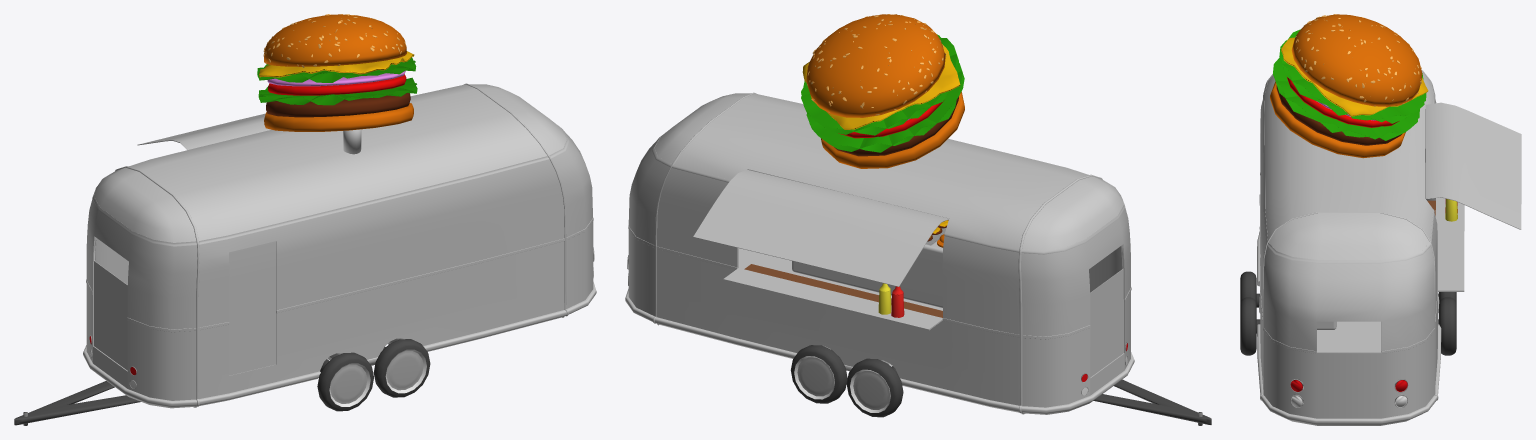
The model's file is TruckChrome.fbx.
3 views of the same model, side by side, from view 1: azimuth 30°, elevation 25°; view 2: azimuth 150°, elevation 25°; view 3: azimuth 270°, elevation 25° (orthographic). The views are drawn at different scales.
Parts seen in each view (by area): view 1: Truck.003; view 2: Truck.003; view 3: Truck.003, Soße.flasche.001.
Boxes of the visible parts, x1,y1,x2,y2 form: Truck.003: [14, 14, 596, 425]; Truck.003: [625, 14, 1211, 425]; Truck.003: [1240, 14, 1521, 425]; Soße.flasche.001: [1445, 199, 1457, 221].
Size of the model in its own units: 792 by 460 by 364.
